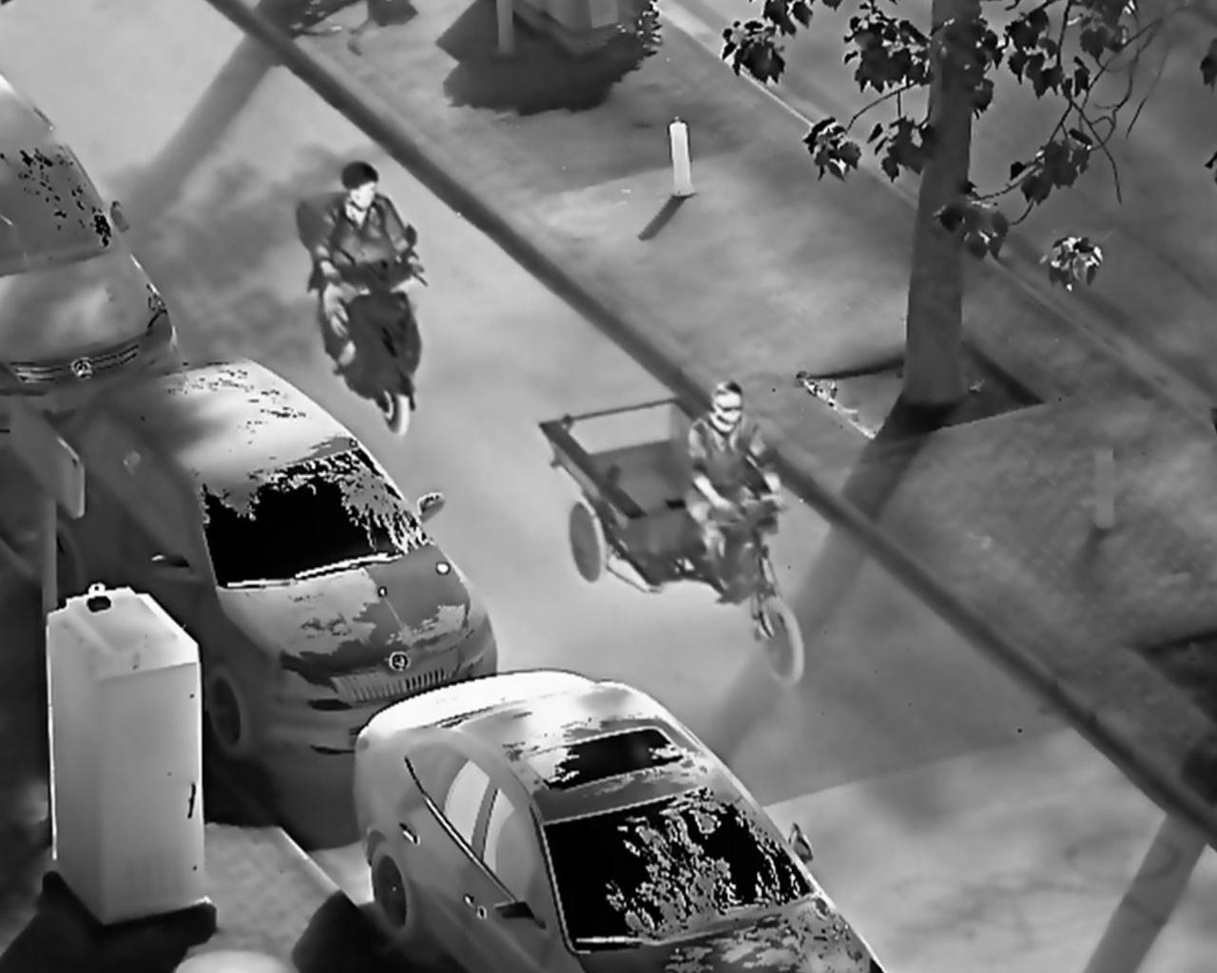person: (312, 158, 429, 377), (685, 378, 790, 602)
